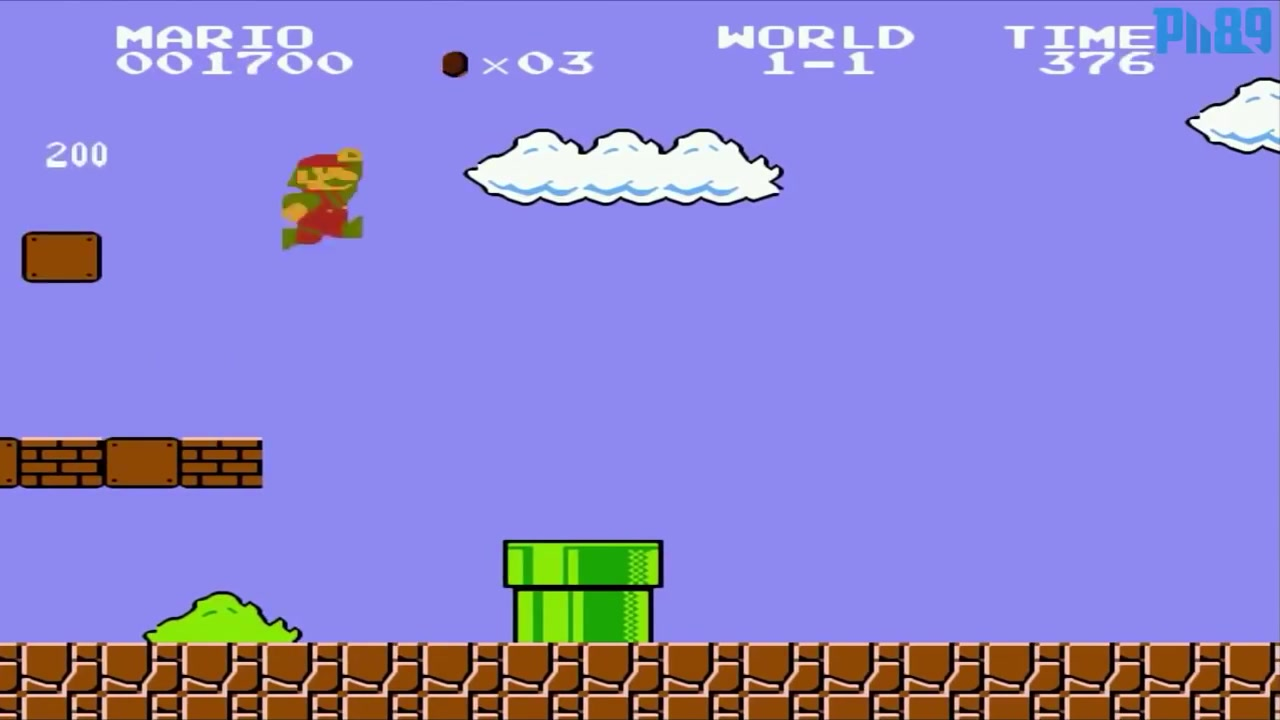mario: (274, 142, 369, 256)
